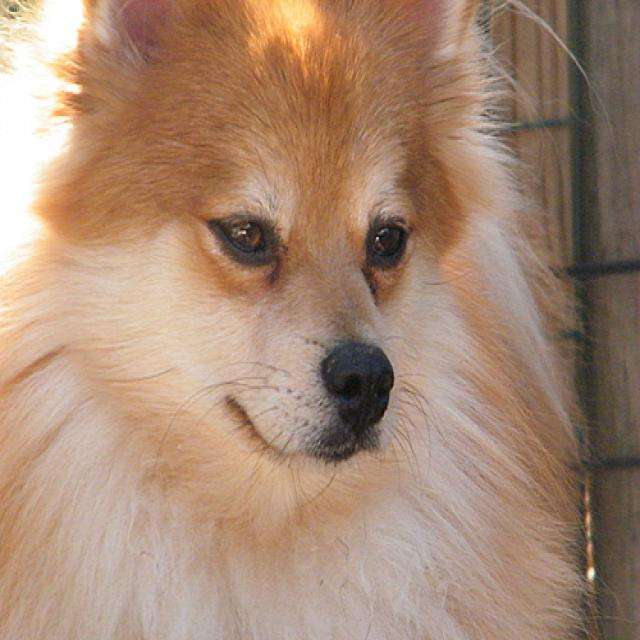dog-pomeranian: (1, 2, 600, 637)
